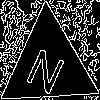N: (23, 39, 71, 96)
